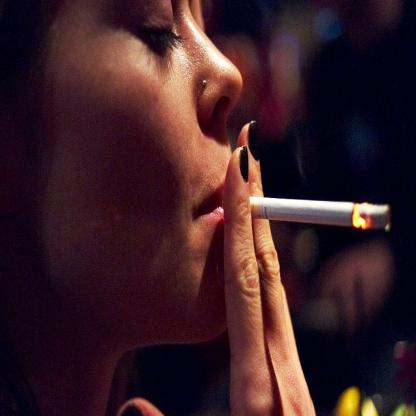smoking: (222, 196, 390, 230)
